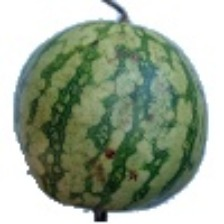watermelon: (13, 30, 166, 224)
